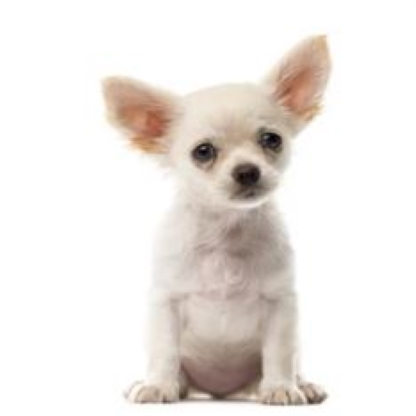chihuahua: (96, 29, 339, 405)
